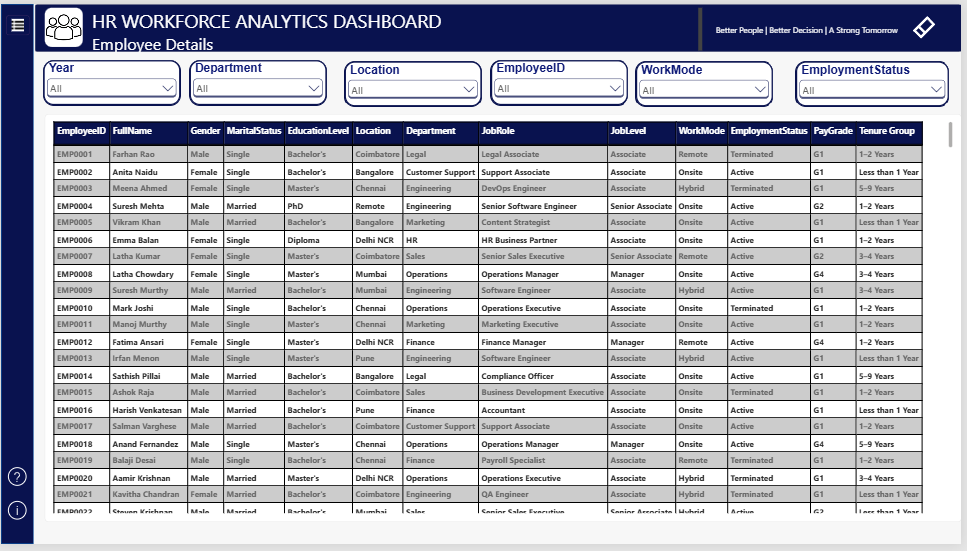

This screenshot's page, from the dashboard's own definition file:
{"tool":"powerbi","page":{"name":"Employee Details","canvas":[1920,1080],"ordinal":8},"visuals":[{"type":"shape","title":"side corner layout","box":[0,0,65,1080],"z":0,"group":"g3"},{"type":"actionButton","title":"top nav bar","box":[66.9,0,1854,96.2],"z":0,"group":"g2"},{"type":"group","id":"g1","title":"slicer","box":[85.8,112.9,1811.2,92],"z":0},{"type":"slicer","fields":{"Values":["DimEmployee.EmploymentStatus"]},"box":[1591.3,115.1,305.7,89.8],"z":0,"group":"g1"},{"type":"image","title":"people icon","box":[85.9,7.8,76,78.4],"z":1000,"group":"g2"},{"type":"slicer","fields":{"Values":["DimEmployee.Location"]},"box":[687.6,115,273.4,89.8],"z":1000,"group":"g1"},{"type":"actionButton","title":"info","box":[7.5,985,50,50],"z":1000,"group":"g3"},{"type":"actionButton","title":"clear slicer","box":[1794.9,12.5,102,69],"z":2000,"group":"g2"},{"type":"slicer","fields":{"Values":["DimEmployee.WorkMode"]},"box":[1271.5,115.1,273.4,89.8],"z":2000,"group":"g1"},{"type":"actionButton","title":"help","box":[7.5,917.5,50,50],"z":2000,"group":"g3"},{"type":"textbox","box":[180.9,7.8,1220,88.9],"z":3000,"group":"g2"},{"type":"actionButton","title":"menu Button","box":[10,22.5,47.5,40],"z":3000,"group":"g3"},{"type":"slicer","fields":{"Values":["DimEmployee.EmployeeID"]},"box":[980.2,112.9,273.4,89.8],"z":3000,"group":"g1"},{"type":"tableEx","fields":{"Values":["DimEmployee.EmployeeID","DimEmployee.FullName","DimEmployee.Gender","DimEmployee.MaritalStatus","DimEmployee.EducationLevel","DimEmployee.Location","DimEmployee.Department","DimEmployee.JobRole","DimEmployee.JobLevel","DimEmployee.WorkMode","DimEmployee.EmploymentStatus","DimEmployee.PayGrade"]},"box":[86.6,220.2,1833.4,815.6],"z":3001},{"type":"group","id":"g2","title":"top nav bar","box":[66.9,0,1853.1,96.2],"z":3126},{"type":"group","id":"g3","title":"menu bar","box":[0,0,65,1080],"z":3501},{"type":"textbox","box":[1306.9,23,486,64.8],"z":4000,"group":"g2"},{"type":"slicer","fields":{"Values":["DimDate.Year"]},"box":[85.8,113.7,273.4,89.8],"z":4000,"group":"g1"},{"type":"slicer","fields":{"Values":["DimDepartment.Department"]},"box":[378.3,113.7,273.4,89.8],"z":5000,"group":"g1"}]}

Visuals, with their boxes in screenshot pixels (x1, y1, x2, y2), scaled from the page's 1920x1080 canvas onto the 967x551 screenshot:
"side corner layout" shape: <box>0,0,33,550</box>
"top nav bar" actionButton: <box>34,0,966,49</box>
"slicer" group: <box>43,58,955,105</box>
slicer - DimEmployee.EmploymentStatus: <box>801,59,955,105</box>
"people icon" image: <box>43,4,82,44</box>
slicer - DimEmployee.Location: <box>346,59,484,104</box>
"info" actionButton: <box>4,503,29,528</box>
"clear slicer" actionButton: <box>904,6,955,42</box>
slicer - DimEmployee.WorkMode: <box>640,59,778,105</box>
"help" actionButton: <box>4,468,29,494</box>
textbox: <box>91,4,706,49</box>
"menu Button" actionButton: <box>5,11,29,32</box>
slicer - DimEmployee.EmployeeID: <box>494,58,631,103</box>
tableEx - DimEmployee.EmployeeID x DimEmployee.FullName: <box>44,112,966,528</box>
"top nav bar" group: <box>34,0,966,49</box>
"menu bar" group: <box>0,0,33,550</box>
textbox: <box>658,12,903,45</box>
slicer - DimDate.Year: <box>43,58,181,104</box>
slicer - DimDepartment.Department: <box>191,58,328,104</box>
